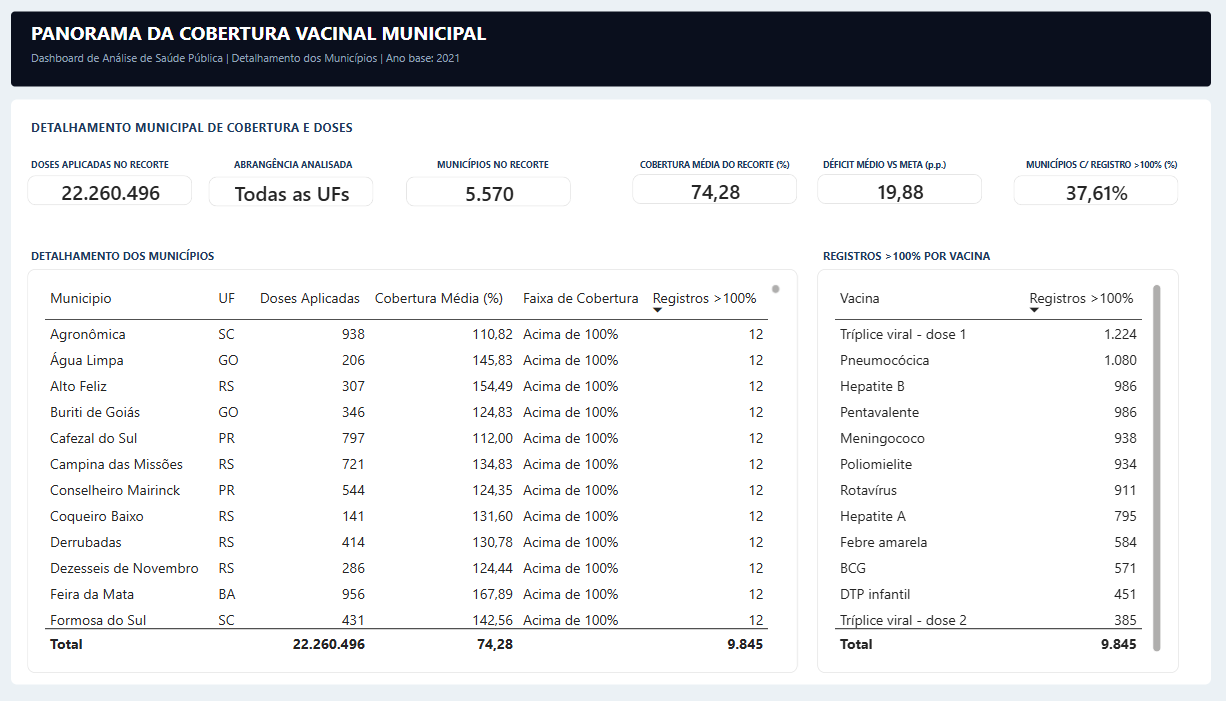

The page's visual inventory and layout, read from the dashboard file:
{"tool":"powerbi","page":{"name":"Detalhamento Municípios","canvas":[1920,1080],"ordinal":1},"visuals":[{"type":"tableEx","fields":{"Values":["DimMunicipio.nome_municipio","DimMunicipio.sigla_uf","Medidas.Total de Doses","Medidas.Cobertura Média %","Medidas.Faixa de Cobertura Média Municipal","Medidas.Registros Acima de 100%"]},"box":[376.2,455,770,403.8],"z":0},{"type":"tableEx","fields":{"Values":["DimVacina.nome_vacina","Medidas.Registros Acima de 100%"]},"box":[1166.2,455,361.2,403.8],"z":2000},{"type":"cardVisual","fields":{"Data":["Medidas.Percentual de Municípios com Registro > 100%"]},"box":[1362.5,361.2,165,30],"z":3000},{"type":"cardVisual","fields":{"Data":["Medidas.Déficit Médio para a Meta"]},"box":[1166.2,360,165,30],"z":4000},{"type":"cardVisual","fields":{"Data":["Medidas.UF Analisada"]},"box":[557.5,362.5,165,30],"z":5000},{"type":"cardVisual","fields":{"Data":["Medidas.Municípios Analisados"]},"box":[755,362.5,165,30],"z":6000},{"type":"cardVisual","fields":{"Data":["Medidas.Cobertura Média %"]},"box":[981.2,360,165,30],"z":7000},{"type":"cardVisual","fields":{"Data":["Medidas.Total de Doses"]},"box":[376.2,361.2,165,30],"z":8000}]}

Visuals, with their boxes in screenshot pixels (x1, y1, x2, y2), scaled from the page's 1920x1080 canvas onto the 1226x701 screenshot:
tableEx - DimMunicipio.nome_municipio x DimMunicipio.sigla_uf: l=240, t=295, r=732, b=557
tableEx - DimVacina.nome_vacina x Medidas.Registros Acima de 100%: l=745, t=295, r=975, b=557
cardVisual - Medidas.Percentual de Municípios com Registro > 100%: l=870, t=234, r=975, b=254
cardVisual - Medidas.Déficit Médio para a Meta: l=745, t=234, r=850, b=253
cardVisual - Medidas.UF Analisada: l=356, t=235, r=461, b=255
cardVisual - Medidas.Municípios Analisados: l=482, t=235, r=587, b=255
cardVisual - Medidas.Cobertura Média %: l=627, t=234, r=732, b=253
cardVisual - Medidas.Total de Doses: l=240, t=234, r=346, b=254
